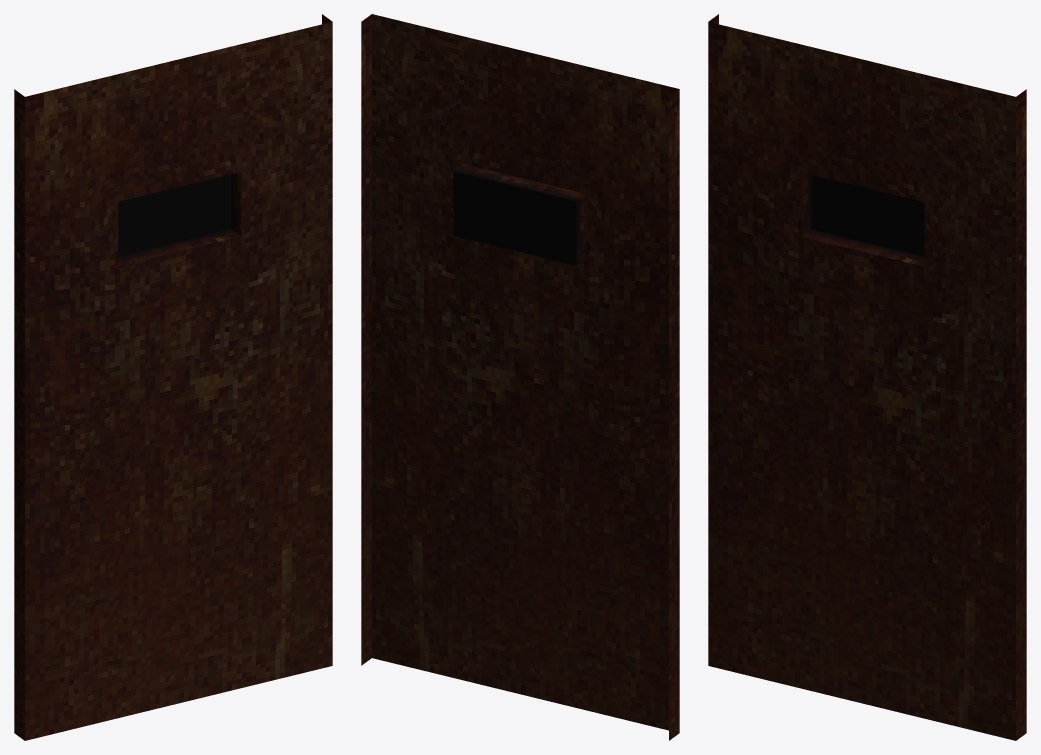
Rendered from the_panopticon_door.glb.
3 views of the same model, side by side, from view 1: azimuth 30°, elevation 25°; view 2: azimuth 150°, elevation 25°; view 3: azimuth 330°, elevation 25° (orthographic).
Parts seen in each view (by area): view 1: the panopticon door; view 2: the panopticon door; view 3: the panopticon door.
Part boxes in pixels (x1,y1,x2,y2): the panopticon door: (14, 14, 332, 740); the panopticon door: (361, 14, 679, 740); the panopticon door: (708, 14, 1026, 740).
Bounding box in the file's own units: 1 × 2 × 0.06.
Materials: 1 (1 with a texture image).
